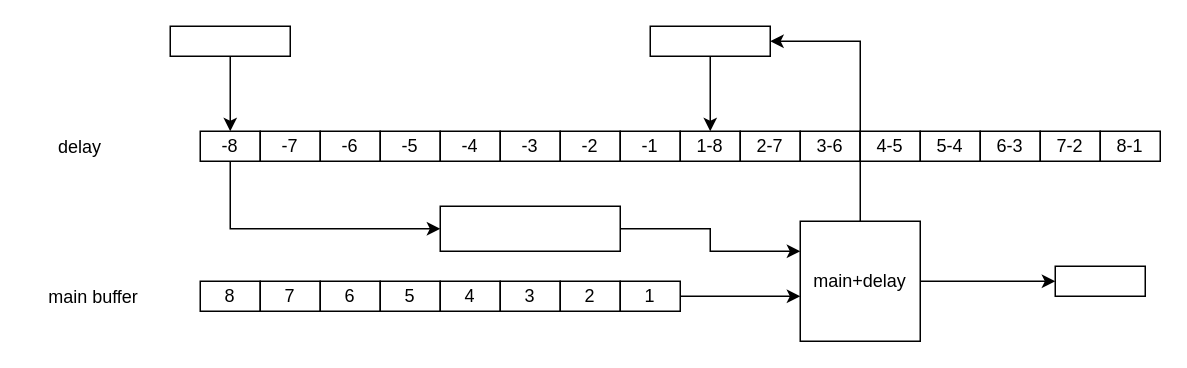
The diagram is 1187 pixels wide and 368 high, and some of its shapes have lost their labels. Here are the shapes that lost their labels. From the top down, the centre of each, then its label:
the point at 229,40: delay read
the point at 709,40: delay write
the point at 529,228: delay attenuation
the point at 1099,280: output
